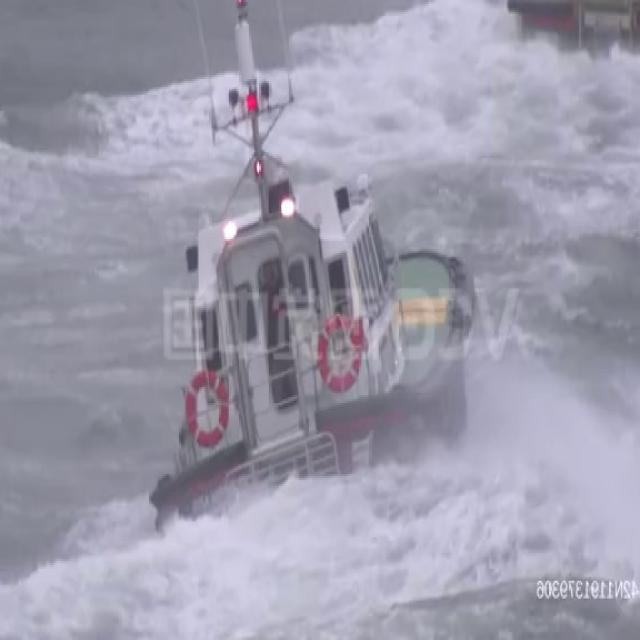houseboat: (146, 0, 480, 545), (502, 0, 640, 69)
